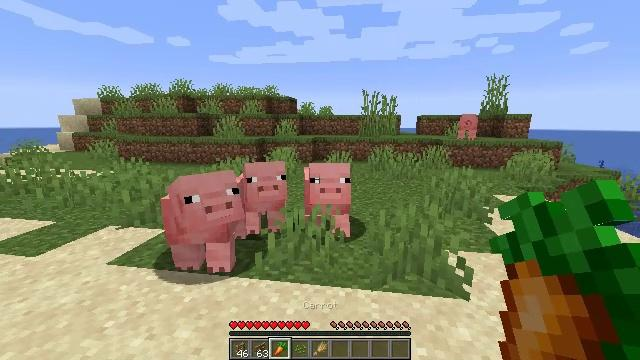pig: (163, 172, 243, 274), (306, 163, 352, 237), (246, 162, 288, 237), (457, 114, 478, 140)
